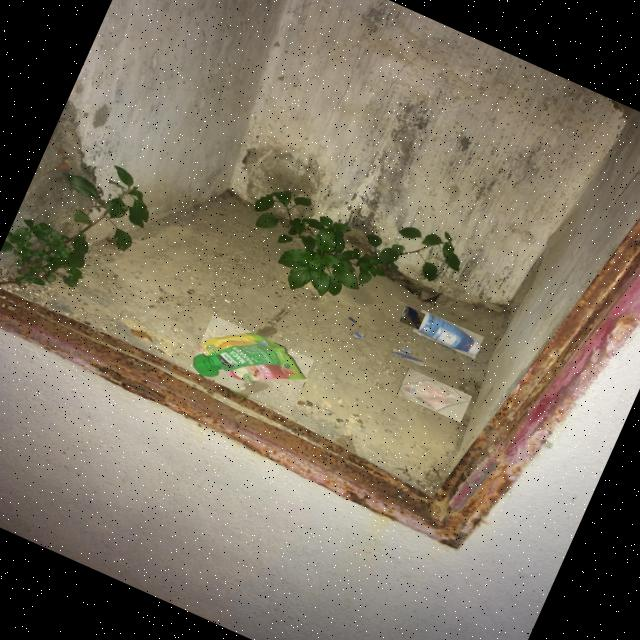Other plastic: (401, 381, 469, 413)
Other plastic bottle: (392, 353, 425, 363), (406, 306, 418, 330), (354, 332, 362, 340), (349, 317, 357, 324), (403, 349, 411, 353)
Other plastic container: (416, 314, 481, 356)
Squeezable tube: (192, 334, 305, 383)
